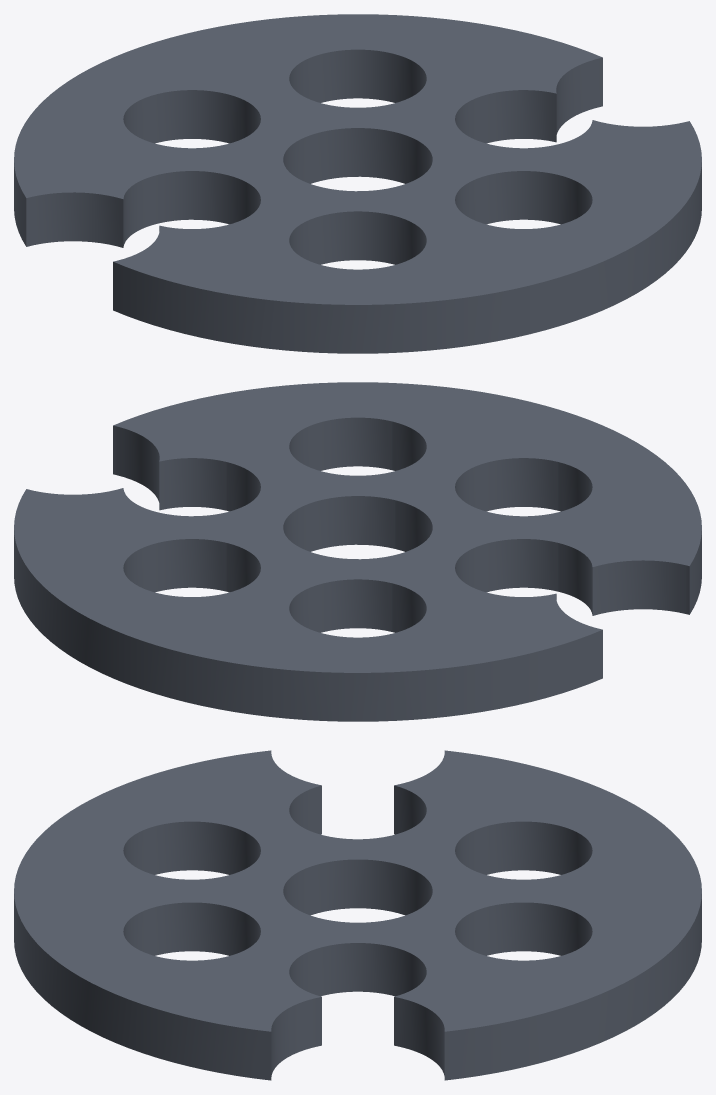
File: wafer-carrier-2.glb
3 renders of one model, top to bottom at view 1: azimuth 30°, elevation 25°; view 2: azimuth 150°, elevation 25°; view 3: azimuth 270°, elevation 25°, orthographic.
Visible parts, largest first — view 1: black circular wafer carrier; view 2: black circular wafer carrier; view 3: black circular wafer carrier.
Part boxes in pixels (<box>): black circular wafer carrier: <box>14,14,701,353</box>; black circular wafer carrier: <box>14,382,701,721</box>; black circular wafer carrier: <box>14,750,701,1080</box>.
Bounding box in the file's own units: 0.2226 × 0.018 × 0.23.
